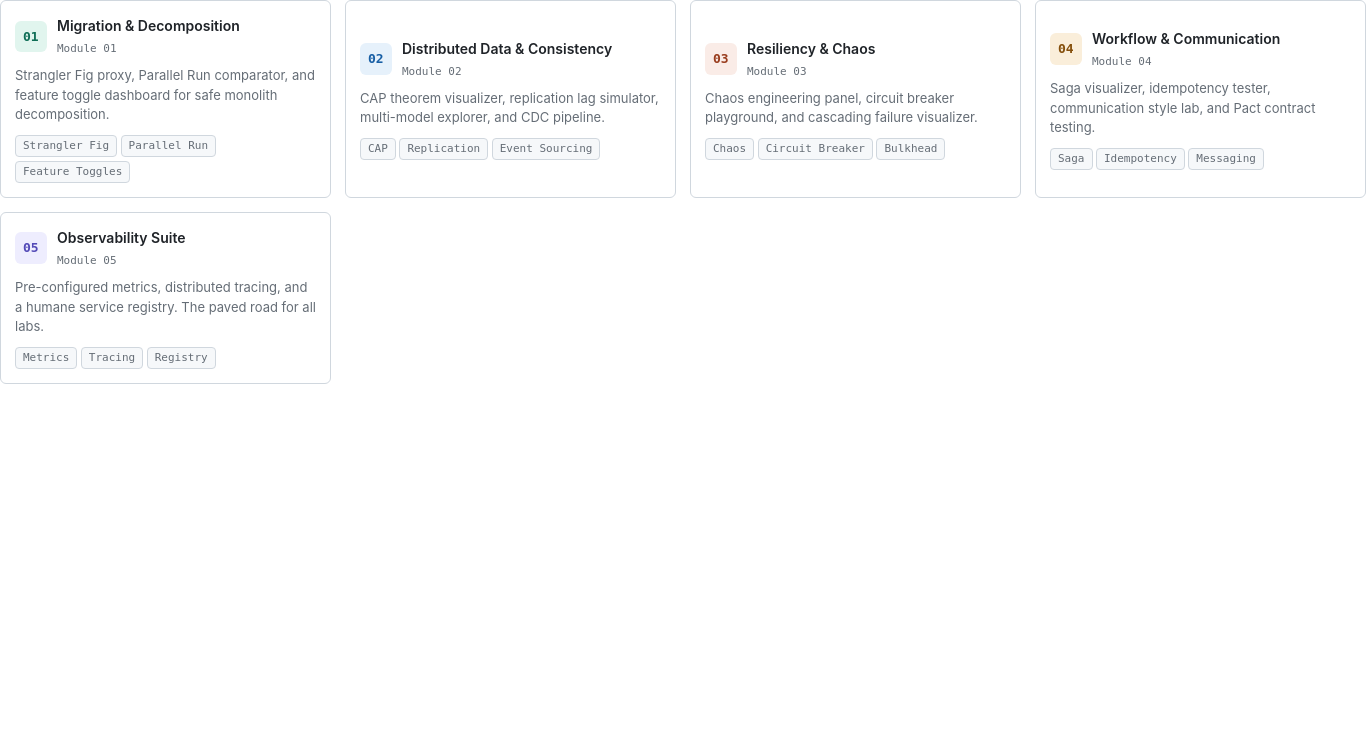
Scenario: labs prototype flow › keeps the testing tab keyboard reachable with non-color status text
Click the button "Migration & Decomposition".
click(166, 99)  # box [0, 0, 331, 198]
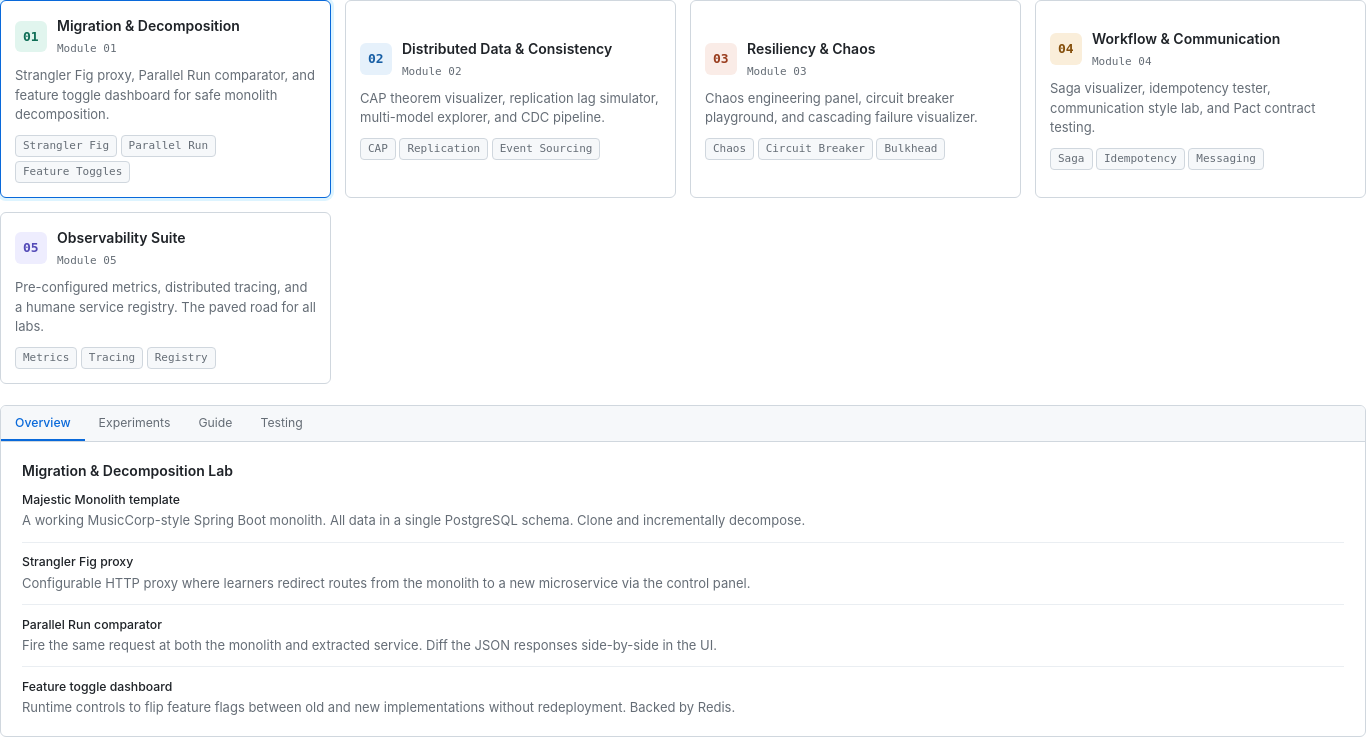
Click the tab "Guide".
click(216, 424)  # box [184, 406, 246, 441]
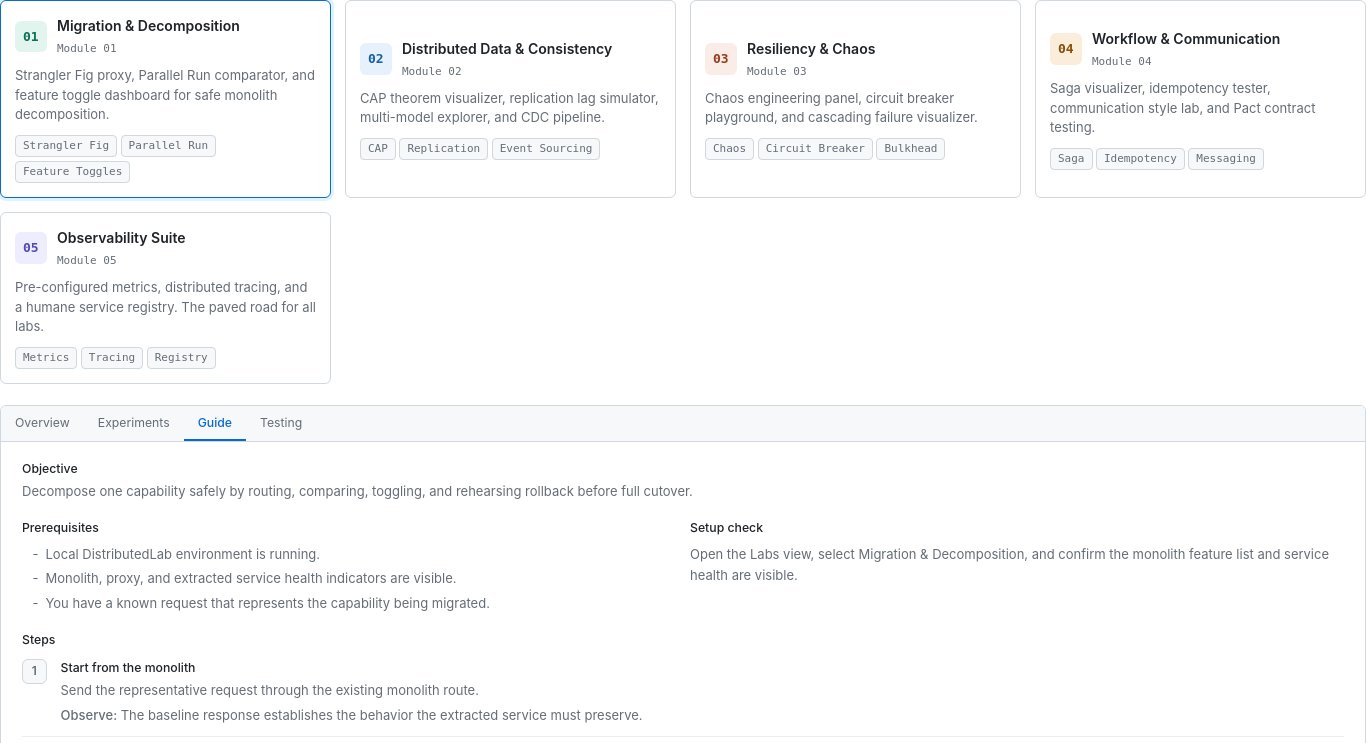
Press ArrowRight in the tab "Guide", box [184, 406, 246, 441]
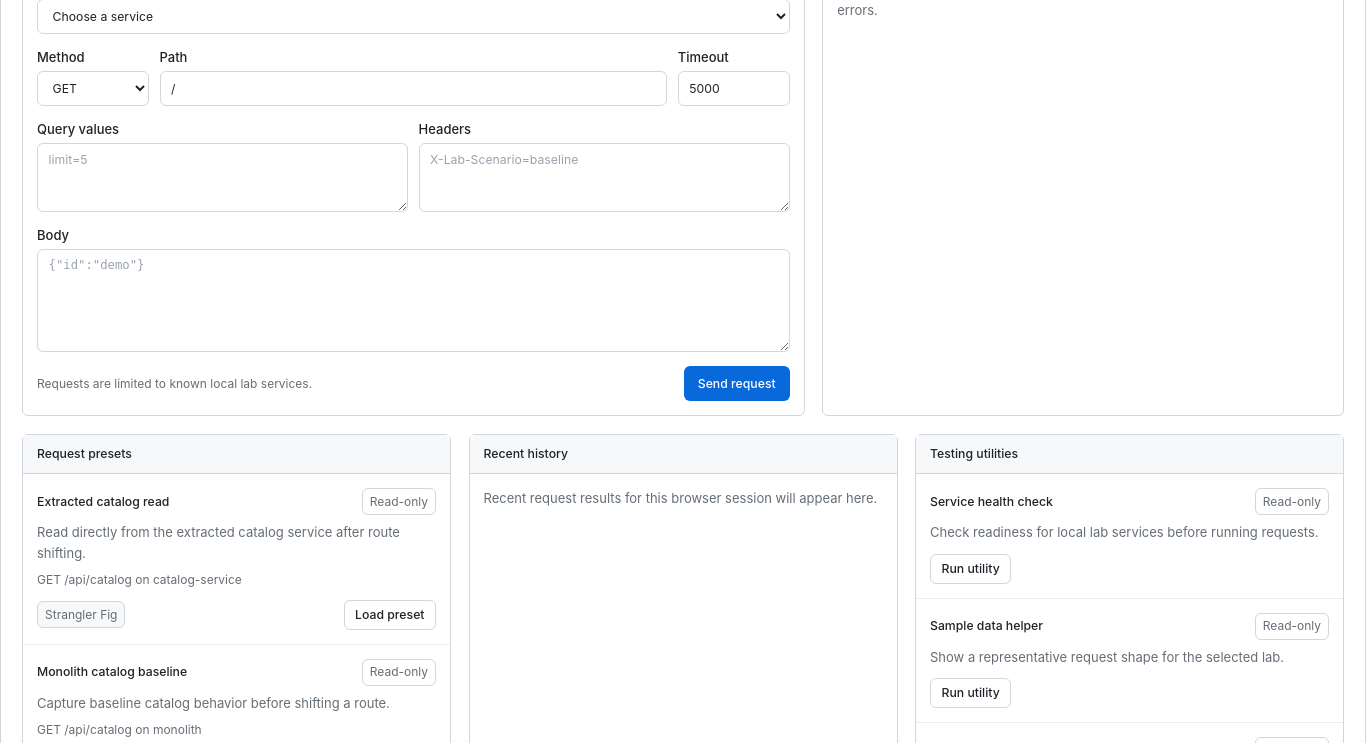
Result: the text "Requests are limited to known local lab services." is shown at [37, 374, 312, 392]
